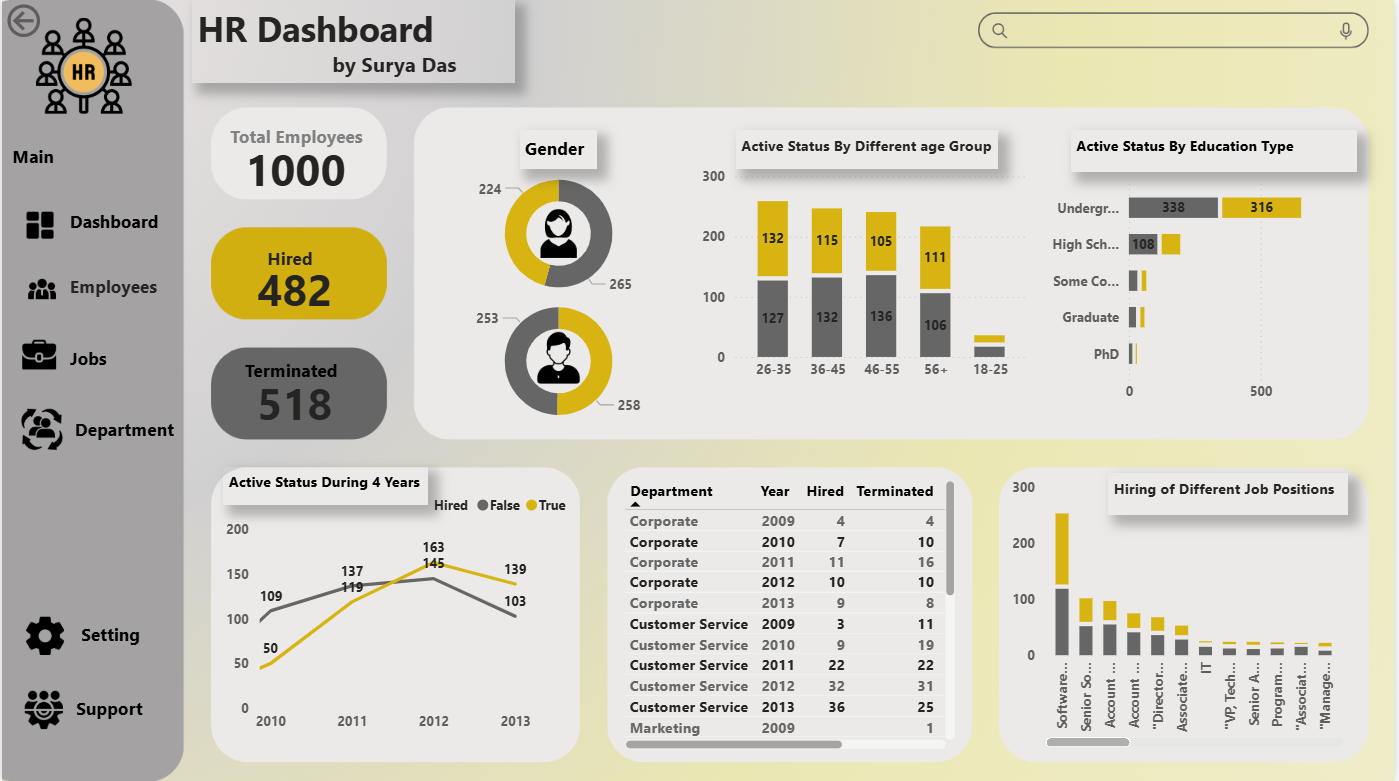

Layout of this report page (visuals, bound fields, positions):
{"tool":"powerbi","page":{"name":"Page 1","canvas":[1280,720],"ordinal":0},"visuals":[{"type":"image","box":[26.1,12.3,97.4,97.4],"z":0},{"type":"textbox","box":[0,129.2,57.4,41],"z":1000},{"type":"image","box":[14.4,190.8,43.1,34.9],"z":2000},{"type":"textbox","box":[57.4,188.7,106.7,43.1],"z":3000},{"type":"image","box":[16.4,248.2,41,36.9],"z":4000},{"type":"textbox","box":[57.4,248.2,116.9,39],"z":5000},{"type":"image","box":[14.4,305.6,41,43.1],"z":6000},{"type":"textbox","box":[57.4,313.8,77.9,34.9],"z":7000},{"type":"image","box":[8.2,371.3,57.4,49.2],"z":8000},{"type":"textbox","box":[61.5,379.5,112.8,34.9],"z":9000},{"type":"image","box":[16.9,563.4,44.6,44.6],"z":10000},{"type":"textbox","box":[67.7,568.2,86.2,34.9],"z":11000},{"type":"image","box":[16.4,623.6,45.1,59.5],"z":12000},{"type":"textbox","box":[63.6,635.9,82.1,34.9],"z":13000},{"type":"textbox","box":[174.9,0,296.8,77.2],"z":14000},{"type":"card","fields":{"Values":["Measures (2).Total_Employees"]},"box":[195.4,82,149.6,149.6],"z":14001},{"type":"textbox","box":[195.4,109.8,150.8,35],"z":14002},{"type":"card","fields":{"Values":["Measures (2).Hired"]},"box":[194.2,191.8,150.8,149.6],"z":14003},{"type":"textbox","box":[238.9,222,66.4,44.6],"z":14004},{"type":"card","fields":{"Values":["Measures (2).Terminated"]},"box":[194.2,296.8,150.8,149.6],"z":14005},{"type":"textbox","box":[218.4,325.7,109.8,45.8],"z":14006},{"type":"donutChart","fields":{"Y":["CountNonNull(HR_Dataset.Gender)"],"Category":["HR_Dataset.Active_Status"]},"box":[428.3,133.9,166.5,162.9],"z":14007},{"type":"image","box":[483.8,188.2,55.5,54.3],"z":14008},{"type":"donutChart","fields":{"Y":["CountNonNull(HR_Dataset.Gender)"],"Category":["HR_Dataset.Active_Status"]},"box":[428.3,252.1,166.5,162.9],"z":14009},{"type":"image","box":[480.2,301.6,62.7,57.9],"z":14010},{"type":"textbox","box":[475.3,120.6,71.2,36.2],"z":14011},{"type":"columnChart","fields":{"Category":["HR_Dataset.Age_Group"],"Y":["CountNonNull(HR_Dataset.EmployeeID)"],"Series":["HR_Dataset.Active_Status"]},"box":[639.4,149.6,310.1,209.9],"z":14012},{"type":"textbox","box":[674.4,120.6,241.3,36.2],"z":14013},{"type":"barChart","fields":{"Category":["HR_Dataset.Education"],"Series":["HR_Dataset.Active_Status"],"Y":["CountNonNull(HR_Dataset.EmployeeID)"]},"box":[949.5,156.8,296.8,223.2],"z":14014},{"type":"textbox","box":[983.2,120.6,263,38.6],"z":14015},{"type":"lineChart","fields":{"Category":["HR_Dataset.Start_Date.Variation.Date Hierarchy.Year","HR_Dataset.Start_Date.Variation.Date Hierarchy.Quarter"],"Series":["HR_Dataset.Active_Status"],"Y":["CountNonNull(HR_Dataset.EmployeeID)"]},"box":[201.5,446.4,326.9,236.5],"z":14016},{"type":"textbox","box":[203.9,429.5,188.2,35],"z":14017},{"type":"tableEx","fields":{"Values":["HR_Dataset.Department","HR_Dataset.Start_Date.Variation.Date Hierarchy.Year","Measures (2).Hired","Measures (2).Terminated","CountNonNull(HR_Dataset.EmployeeID)"]},"box":[567,437.9,314.9,257],"z":14018},{"type":"actionButton","box":[0,0,100,40],"z":14019},{"type":"columnChart","fields":{"Category":["HR_Dataset.Job_title"],"Y":["CountNonNull(HR_Dataset.EmployeeID)"],"Series":["HR_Dataset.Active_Status"]},"box":[924.1,435.5,313.7,257],"z":14020},{"type":"textbox","box":[1017,435.5,220.8,38.6],"z":14021}]}

Visuals, with their boxes on the page's 1280x720 design canvas (x1, y1, x2, y2). These are canvas units, not pixel positions in the 1399x781 screenshot, which may show the page scaled, cropped or inside an application window:
image: bbox=(26, 12, 124, 110)
textbox: bbox=(0, 129, 57, 170)
image: bbox=(14, 191, 58, 226)
textbox: bbox=(57, 189, 164, 232)
image: bbox=(16, 248, 57, 285)
textbox: bbox=(57, 248, 174, 287)
image: bbox=(14, 306, 55, 349)
textbox: bbox=(57, 314, 135, 349)
image: bbox=(8, 371, 66, 420)
textbox: bbox=(62, 380, 174, 414)
image: bbox=(17, 563, 62, 608)
textbox: bbox=(68, 568, 154, 603)
image: bbox=(16, 624, 62, 683)
textbox: bbox=(64, 636, 146, 671)
textbox: bbox=(175, 0, 472, 77)
card - Measures (2).Total_Employees: bbox=(195, 82, 345, 232)
textbox: bbox=(195, 110, 346, 145)
card - Measures (2).Hired: bbox=(194, 192, 345, 341)
textbox: bbox=(239, 222, 305, 267)
card - Measures (2).Terminated: bbox=(194, 297, 345, 446)
textbox: bbox=(218, 326, 328, 372)
donutChart - CountNonNull(HR_Dataset.Gender) x HR_Dataset.Active_Status: bbox=(428, 134, 595, 297)
image: bbox=(484, 188, 539, 242)
donutChart - CountNonNull(HR_Dataset.Gender) x HR_Dataset.Active_Status: bbox=(428, 252, 595, 415)
image: bbox=(480, 302, 543, 360)
textbox: bbox=(475, 121, 546, 157)
columnChart - HR_Dataset.Age_Group x CountNonNull(HR_Dataset.EmployeeID): bbox=(639, 150, 950, 360)
textbox: bbox=(674, 121, 916, 157)
barChart - HR_Dataset.Education x HR_Dataset.Active_Status: bbox=(950, 157, 1246, 380)
textbox: bbox=(983, 121, 1246, 159)
lineChart - HR_Dataset.Start_Date.Variation.Date Hierarchy.Year x HR_Dataset.Start_Date.Variation.Date Hierarchy.Quarter: bbox=(202, 446, 528, 683)
textbox: bbox=(204, 430, 392, 464)
tableEx - HR_Dataset.Department x HR_Dataset.Start_Date.Variation.Date Hierarchy.Year: bbox=(567, 438, 882, 695)
actionButton: bbox=(0, 0, 100, 40)
columnChart - HR_Dataset.Job_title x CountNonNull(HR_Dataset.EmployeeID): bbox=(924, 436, 1238, 692)
textbox: bbox=(1017, 436, 1238, 474)
